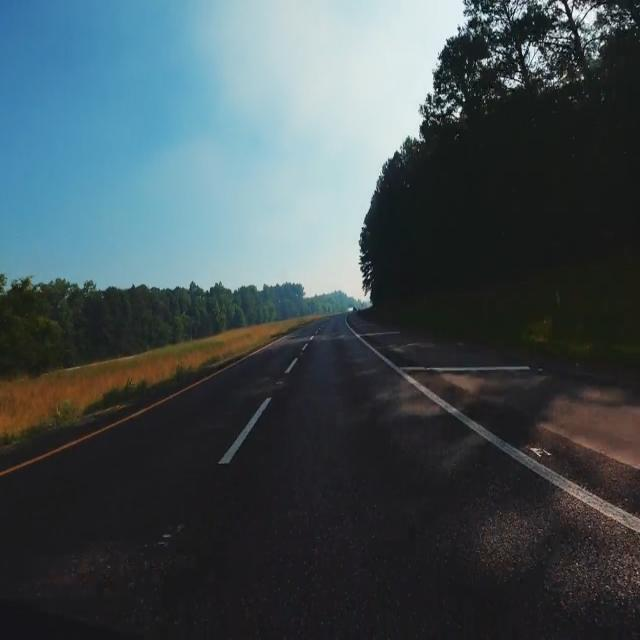asphalt: (0, 316, 640, 639), (406, 361, 640, 516), (346, 315, 528, 368)
